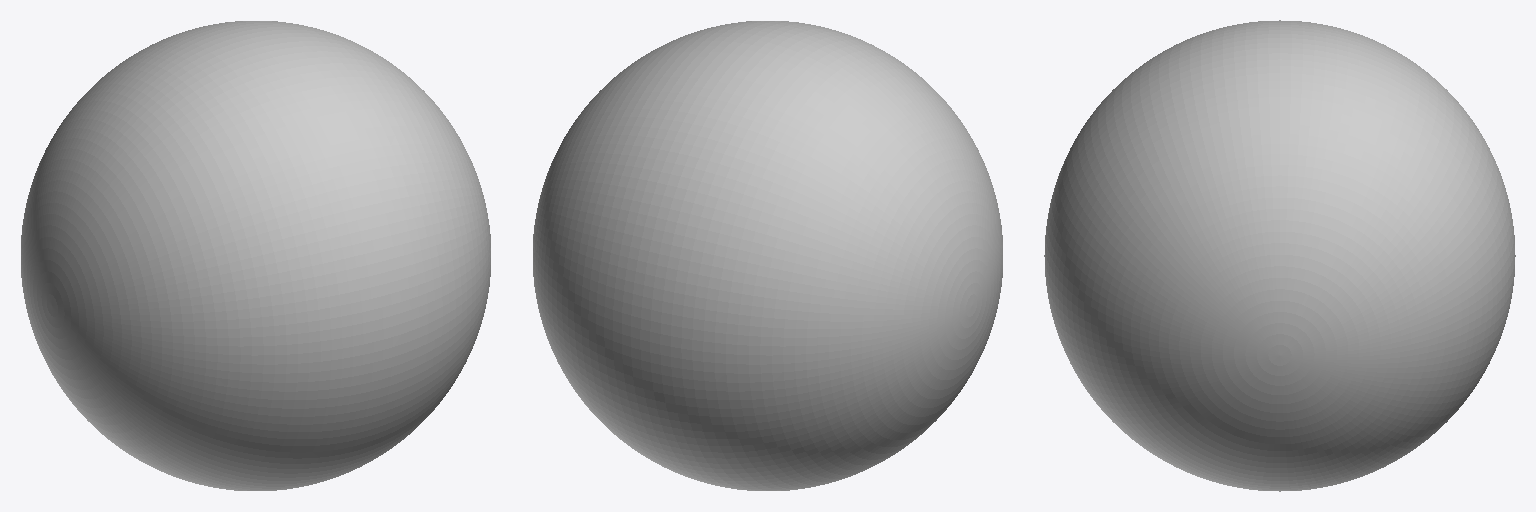
Rendered from Moon.obj.
3 renders of one model, left to right at view 1: azimuth 30°, elevation 25°; view 2: azimuth 150°, elevation 25°; view 3: azimuth 270°, elevation 25°, orthographic.
Parts seen in each view (by area): view 1: Moon; view 2: Moon; view 3: Moon.
Part boxes in pixels (x1,y1,x2,y2): Moon: (21,21,490,490); Moon: (533,21,1002,490); Moon: (1044,20,1515,491).
Bounding box in the file's own units: 0.6366 × 0.6366 × 0.6366.